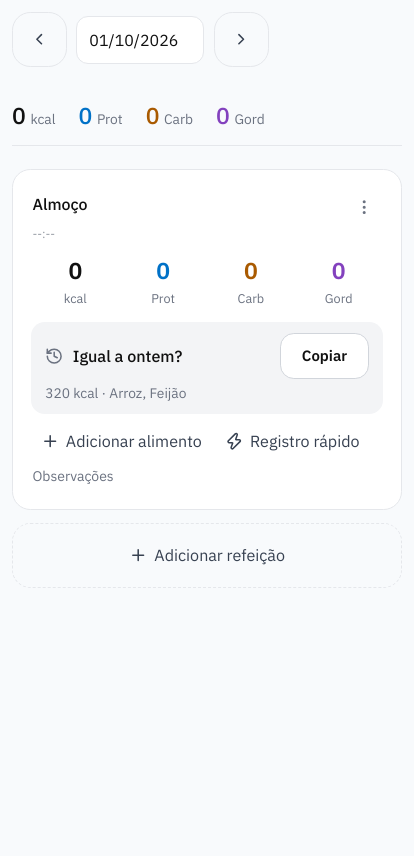
FoodLogScreen — Igual a ontem › oferece o almoço de ontem, copia com as mesmas gramas, e o Desfazer tira
Check: the text "Igual a ontem?" is shown, box [45, 345, 182, 366]
Check: the text "320 kcal · Arroz, Feijão" is shown, box [45, 384, 186, 402]
Click the button with aria-label "Copiar Almoço de ontem".
click(324, 356)  # box [280, 333, 369, 379]
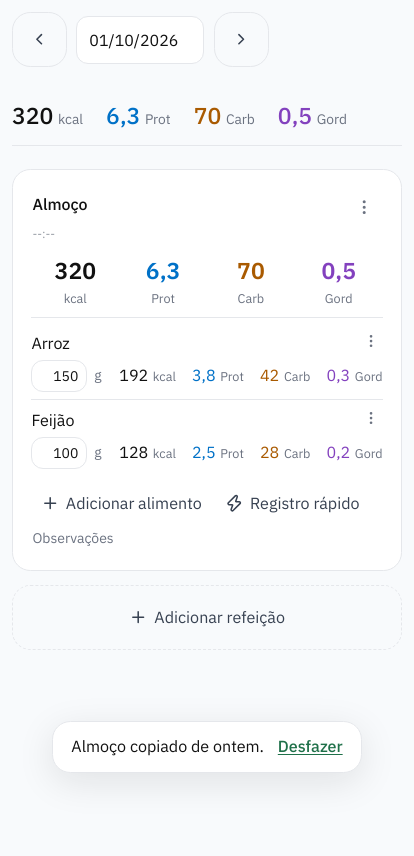
Check: the text "Igual a ontem?" is gone
Click the button "Desfazer".
click(310, 747)  # box [278, 735, 343, 758]
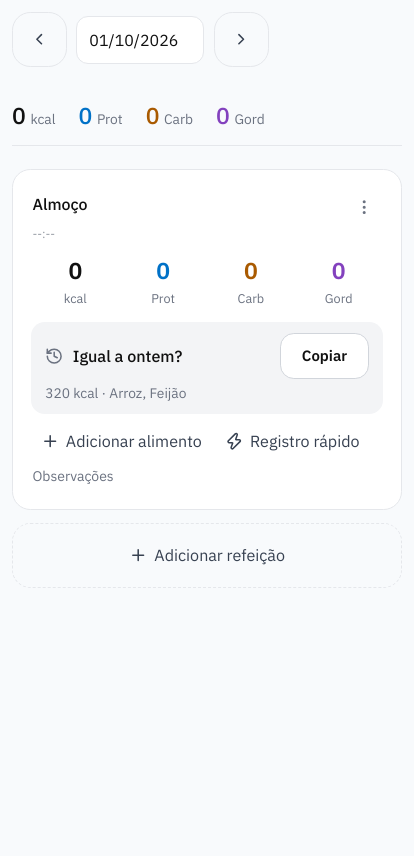
Check: the text "Igual a ontem?" is shown, box [45, 345, 182, 366]
